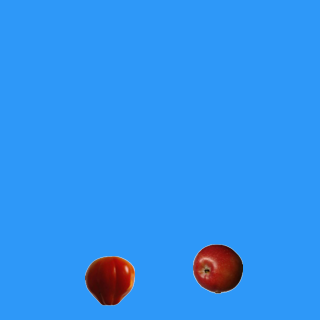Apple Braeburn: (192, 243, 242, 293)
Tomato 1: (84, 255, 134, 305)
